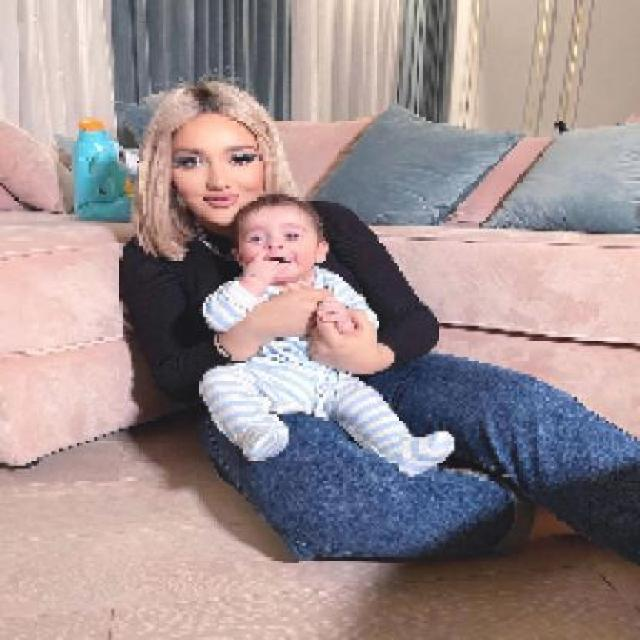child: (200, 191, 457, 480)
